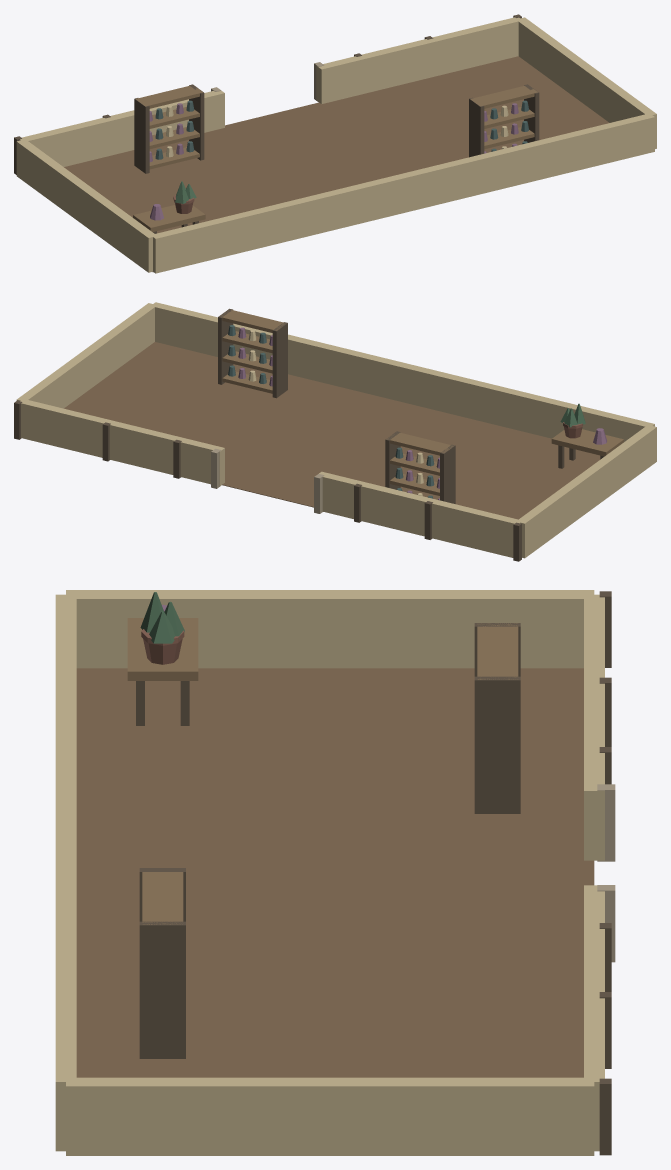
The model's file is TownEx_Herbalist_Structure.fbx.
The picture shows the model from 3 angles, top to bottom: view 1: azimuth 30°, elevation 25°; view 2: azimuth 150°, elevation 25°; view 3: azimuth 270°, elevation 25°; orthographic projection. The views are drawn at different scales.
Parts seen in each view (by area): view 1: TownEx_Herbalist_Structure; view 2: TownEx_Herbalist_Structure; view 3: TownEx_Herbalist_Structure.
Boxes of the visible parts, x1=… form: TownEx_Herbalist_Structure: x1=14, y1=14, x2=656, y2=273; TownEx_Herbalist_Structure: x1=14, y1=302, x2=656, y2=561; TownEx_Herbalist_Structure: x1=55, y1=590, x2=615, y2=1155.
Size of the model in its own units: 15.78 by 2 by 7.52.
